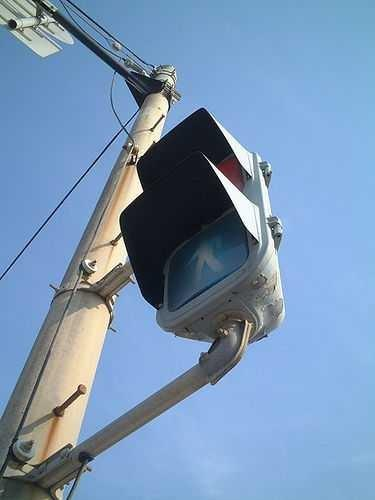green: (123, 169, 272, 323)
